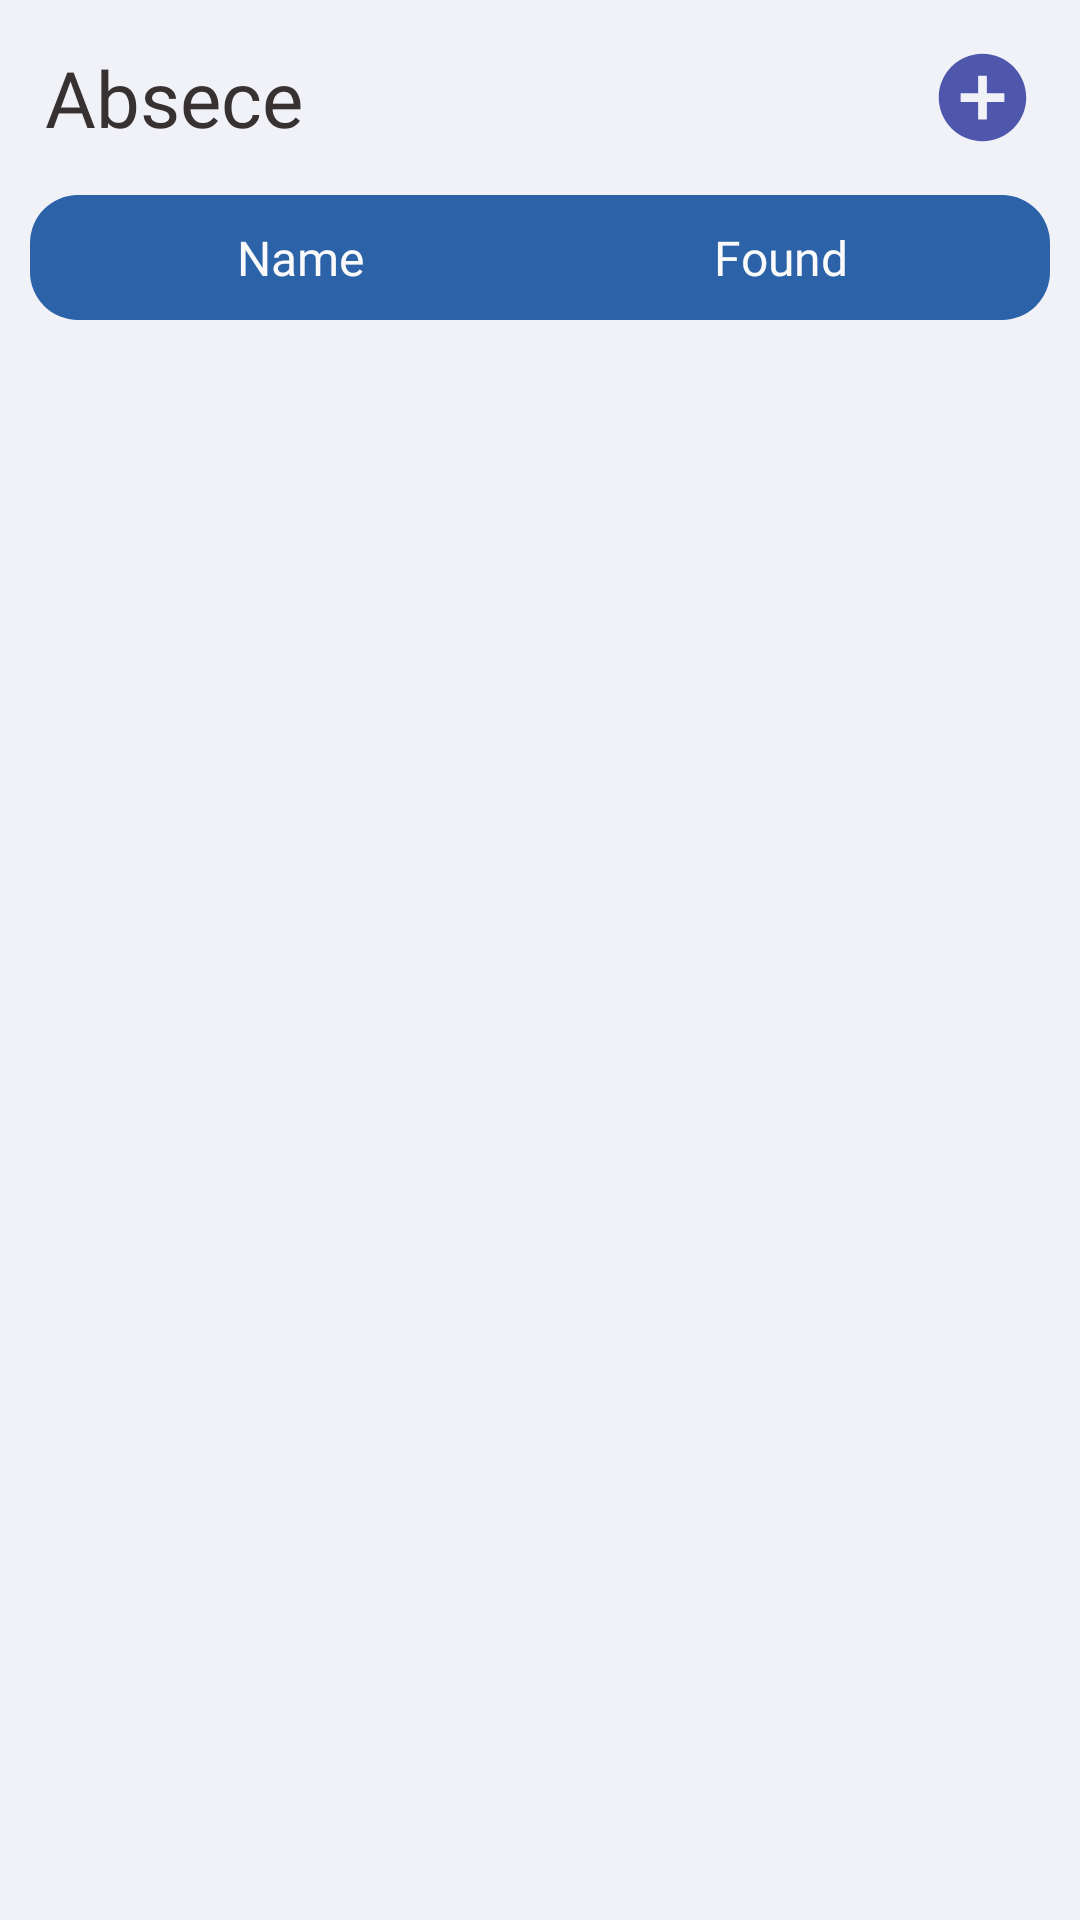

Named icons in this screenshot (1080 × 1920) and their centers, [x,y]:
add: [982,97]
